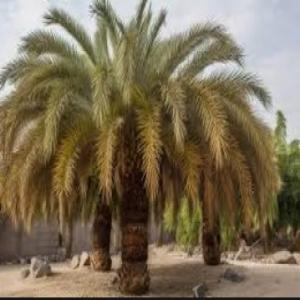palm tree: (0, 0, 282, 293)
